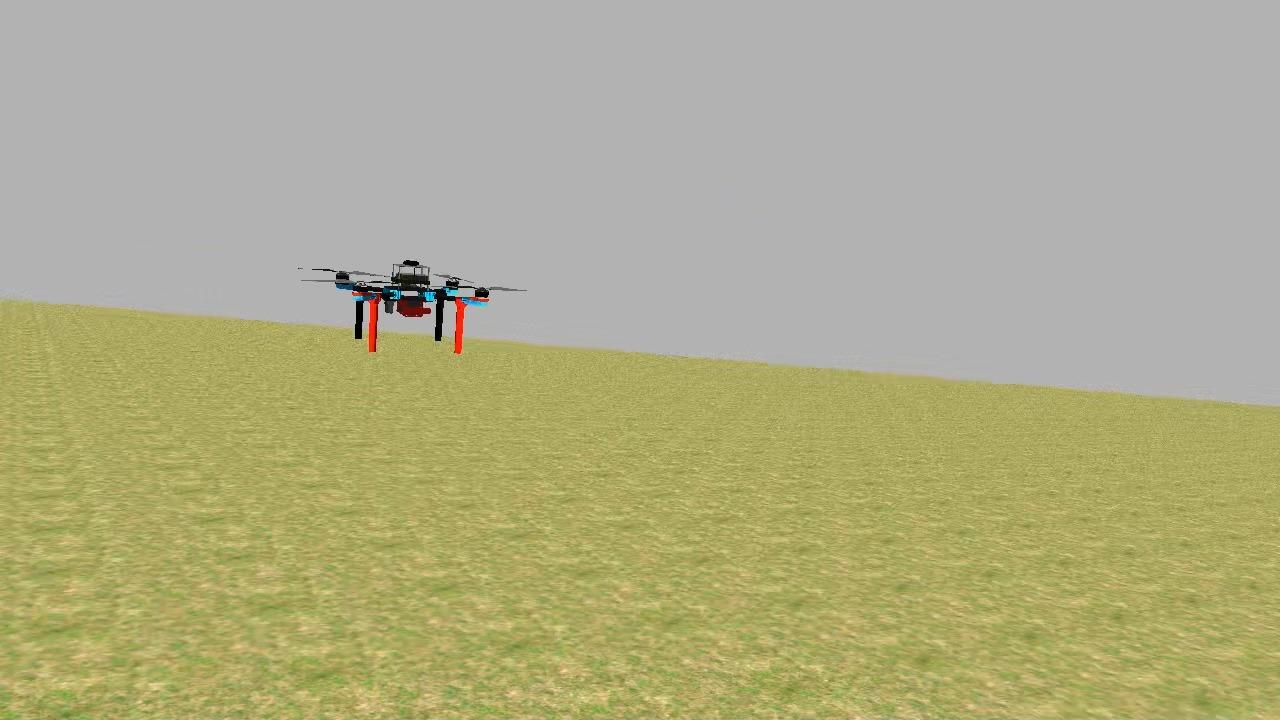UAV: (326, 254, 497, 360)
